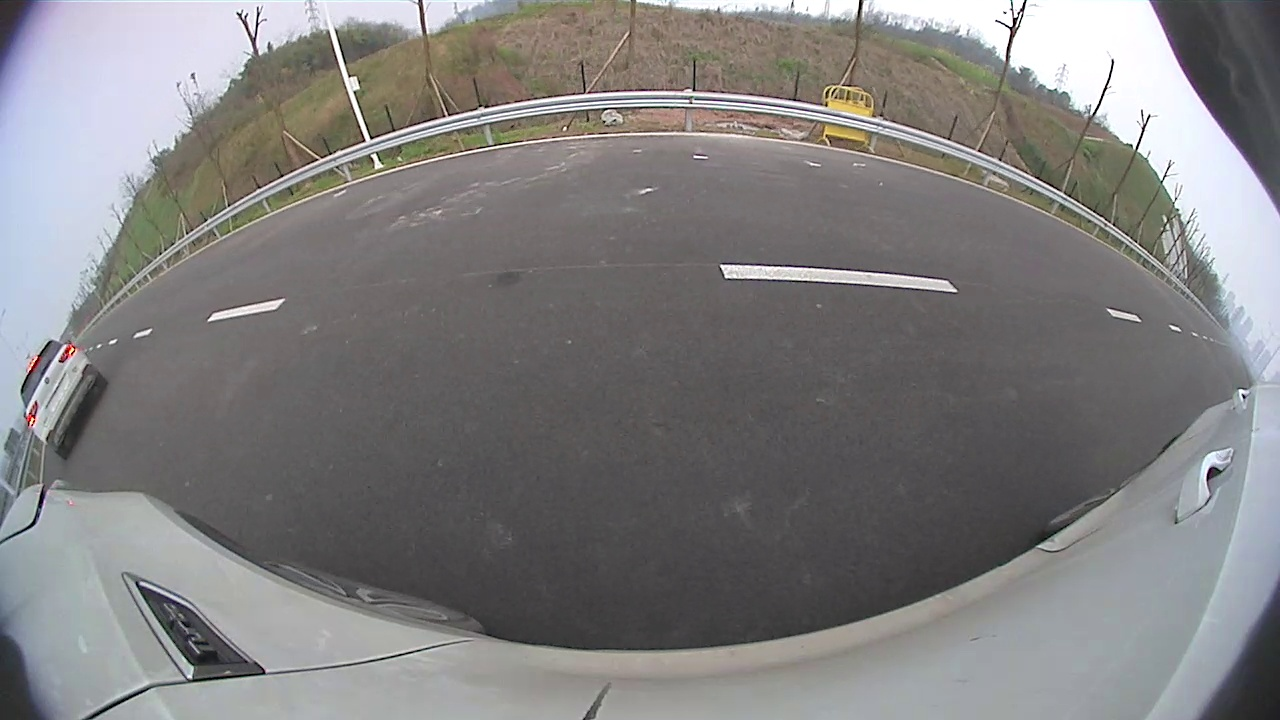car: (19, 339, 109, 460)
